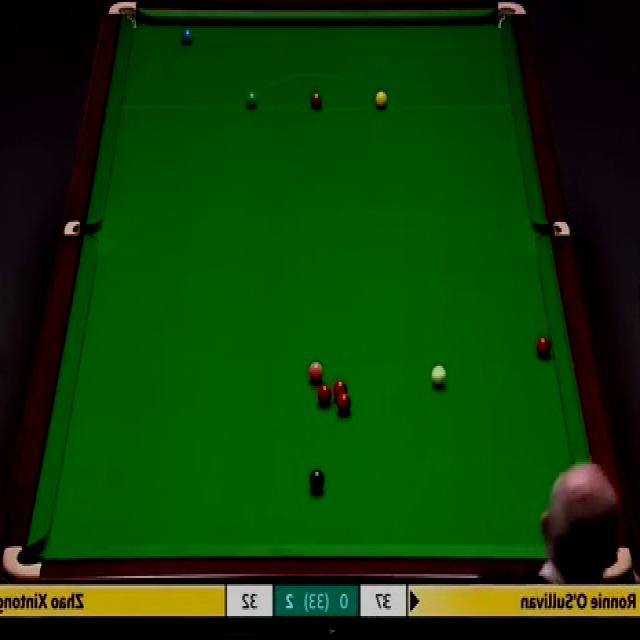black-ball: (309, 466, 325, 494)
blue-ball: (180, 24, 194, 44)
brown-ball: (310, 92, 323, 109)
green-ball: (244, 88, 258, 112)
pink-ball: (308, 360, 324, 384)
red-ball: (333, 378, 347, 402), (336, 392, 351, 414), (536, 335, 550, 358), (316, 385, 330, 405)
white-ball: (430, 364, 448, 390)
yellow-ball: (374, 89, 388, 110)
